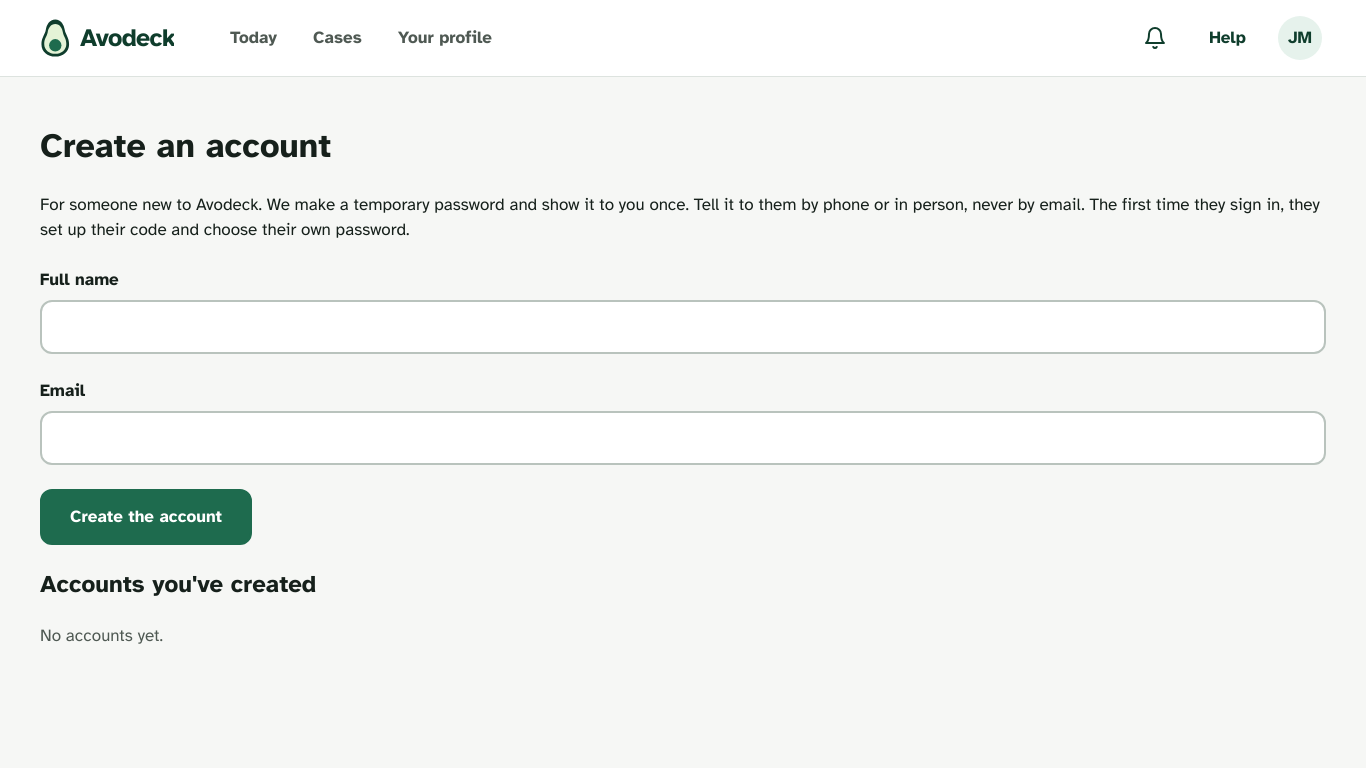
it: an email that already has an account is explained in plain words
Type "Dr New Expert" into the field labelled "Full name" at (683, 327), box [40, 300, 1326, 354]
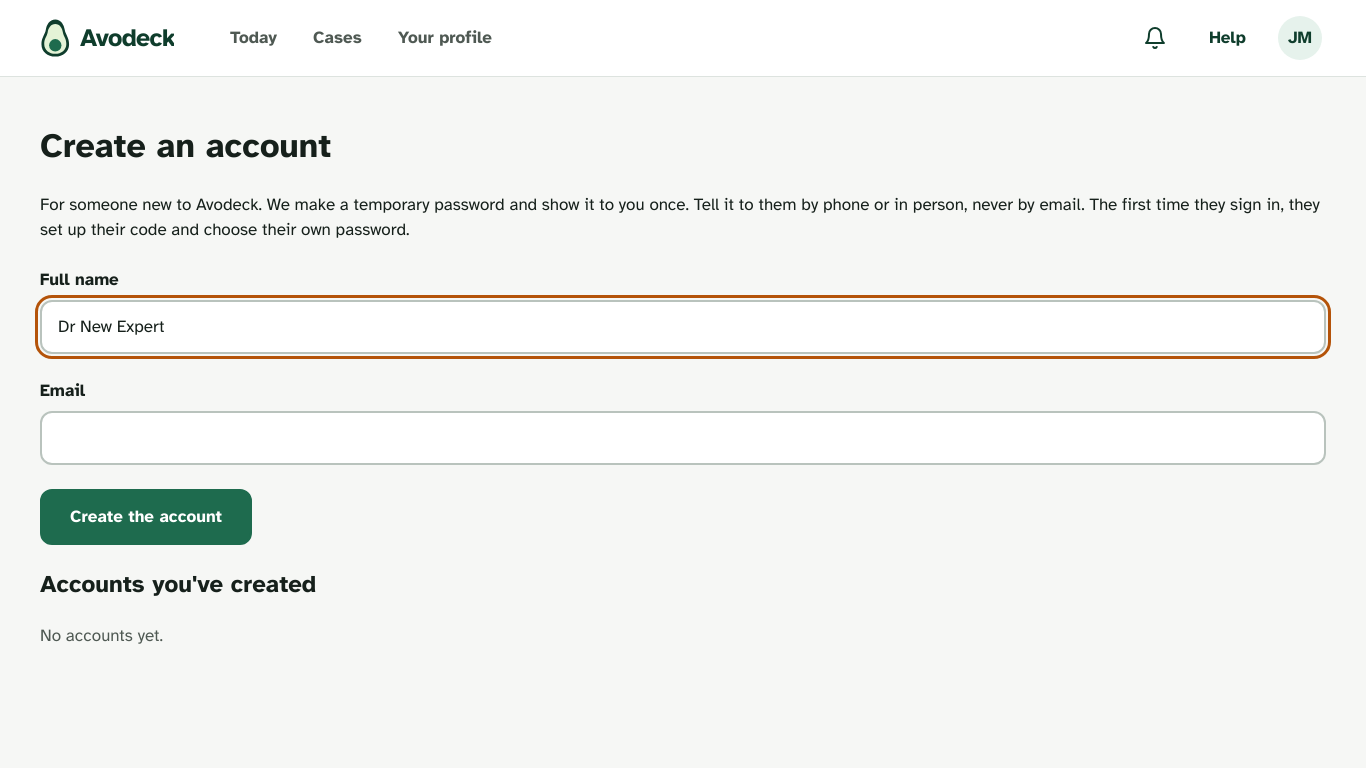
Type "new.expert@example.test" into the field labelled "Email" at (683, 438), box [40, 411, 1326, 464]
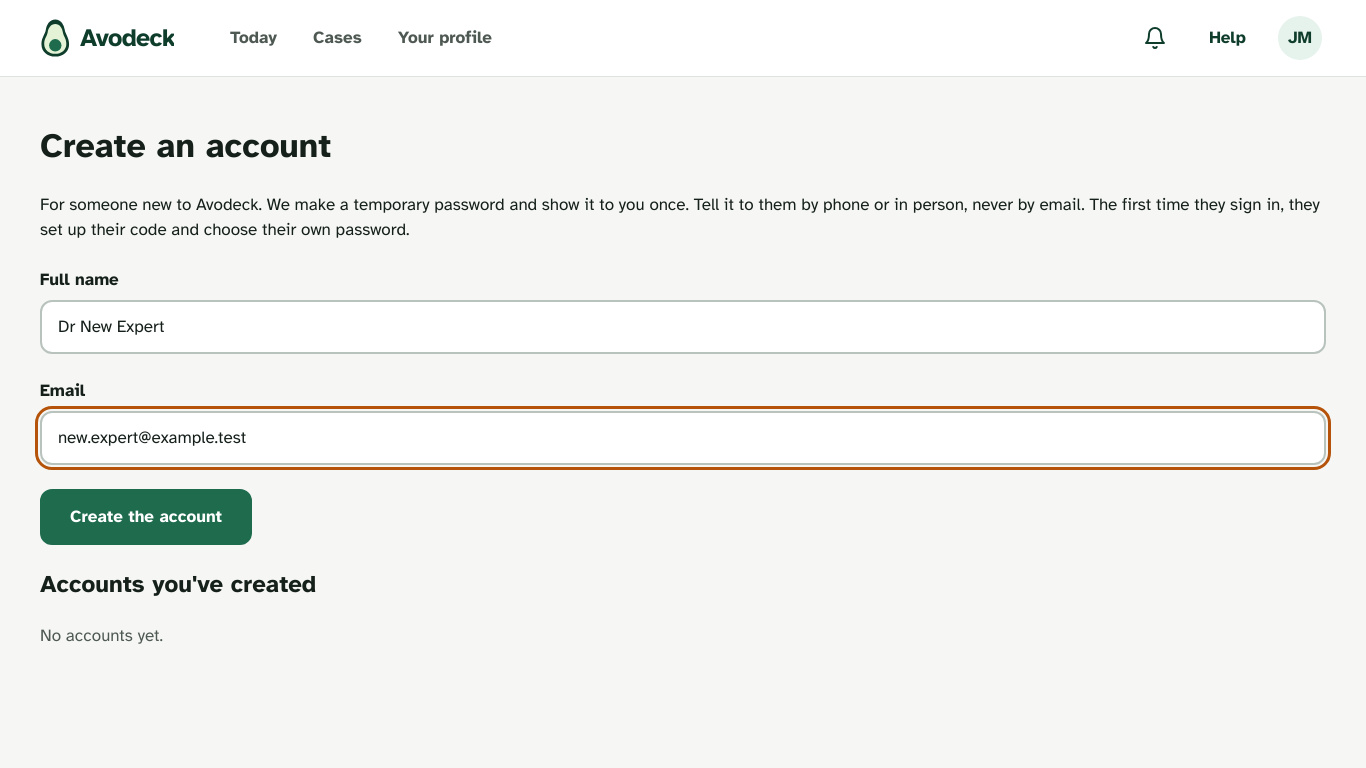
Click the button "Create the account" at (146, 516), box [40, 488, 252, 544]
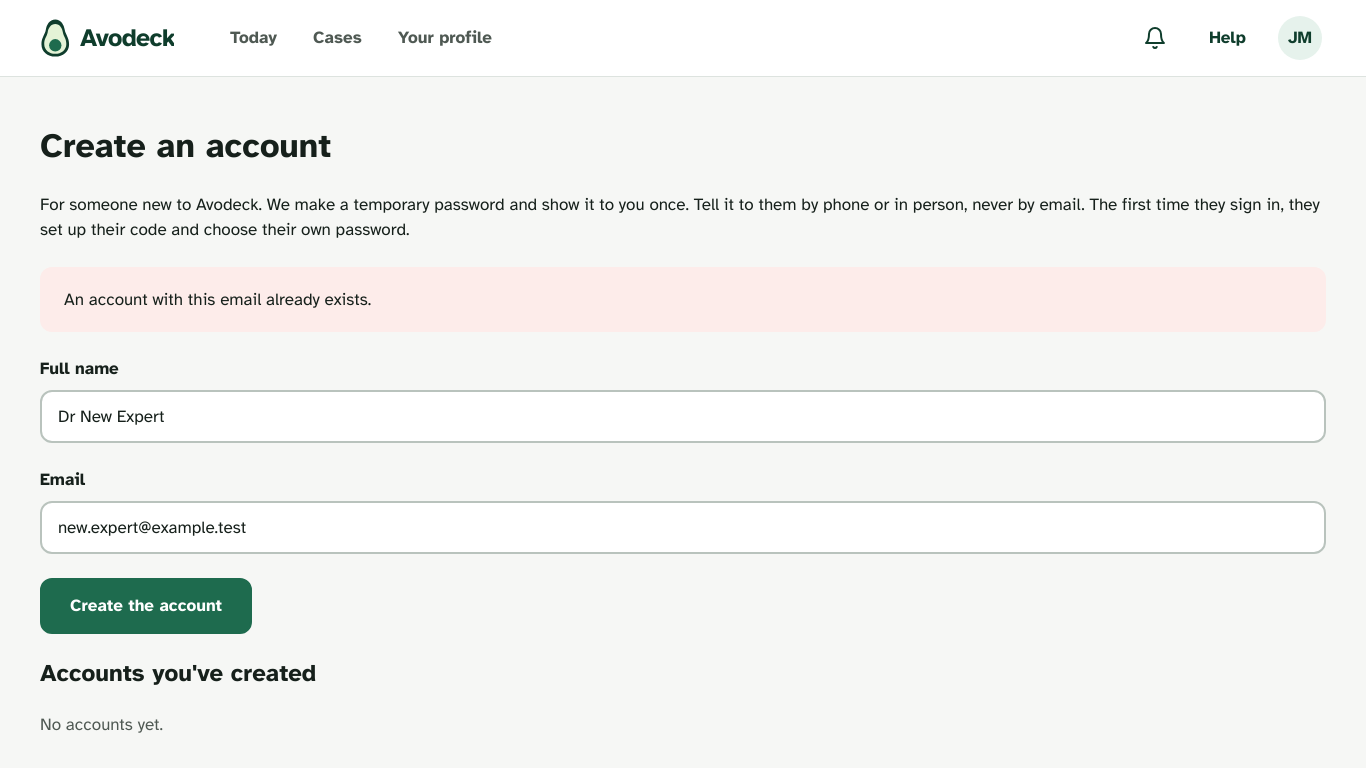
expect the text "An account with this email already exists." is shown: met, box [64, 288, 371, 310]
